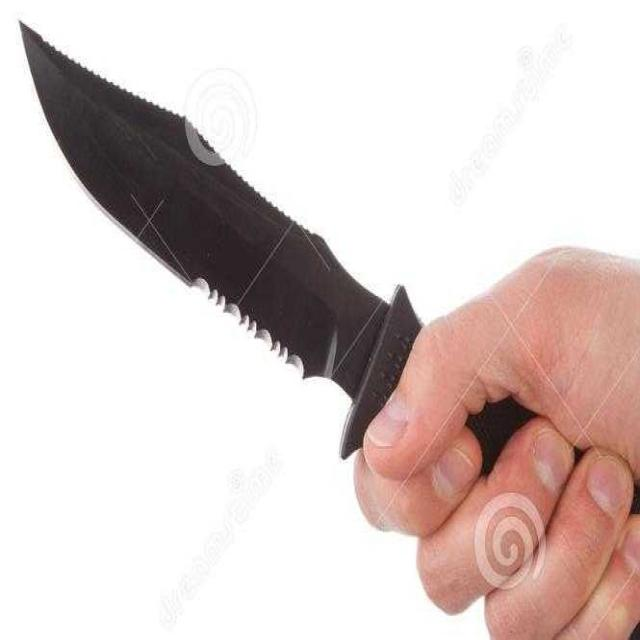Knife: (13, 10, 640, 561)
